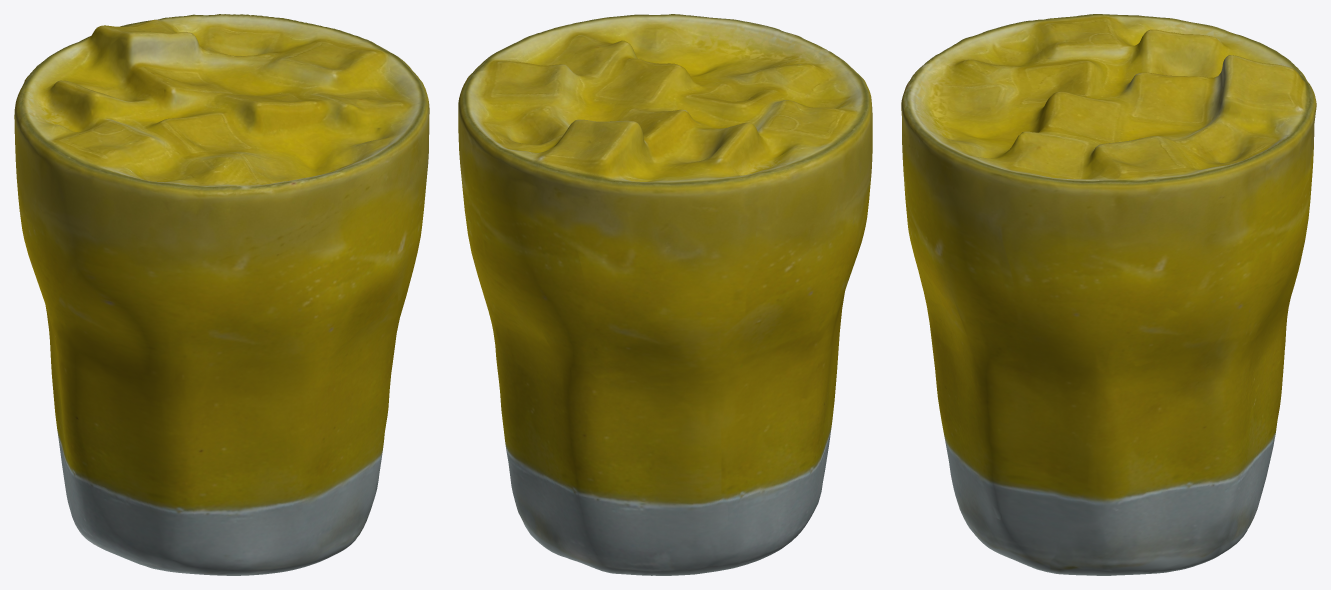
The model's file is OJ FBX cocktail.fbx.
The picture shows the model from 3 angles, left to right: view 1: azimuth 30°, elevation 25°; view 2: azimuth 150°, elevation 25°; view 3: azimuth 270°, elevation 25°; orthographic projection.
Visible parts, largest first — view 1: goz_2015_4; view 2: goz_2015_4; view 3: goz_2015_4.
Boxes of the visible parts, bbox=[...] form: goz_2015_4: bbox=[14, 14, 429, 575]; goz_2015_4: bbox=[458, 14, 872, 575]; goz_2015_4: bbox=[901, 14, 1316, 575].
Size of the model in its own units: 3.17 by 3.16 by 3.81.
Materials: 1 (1 with a texture image).
